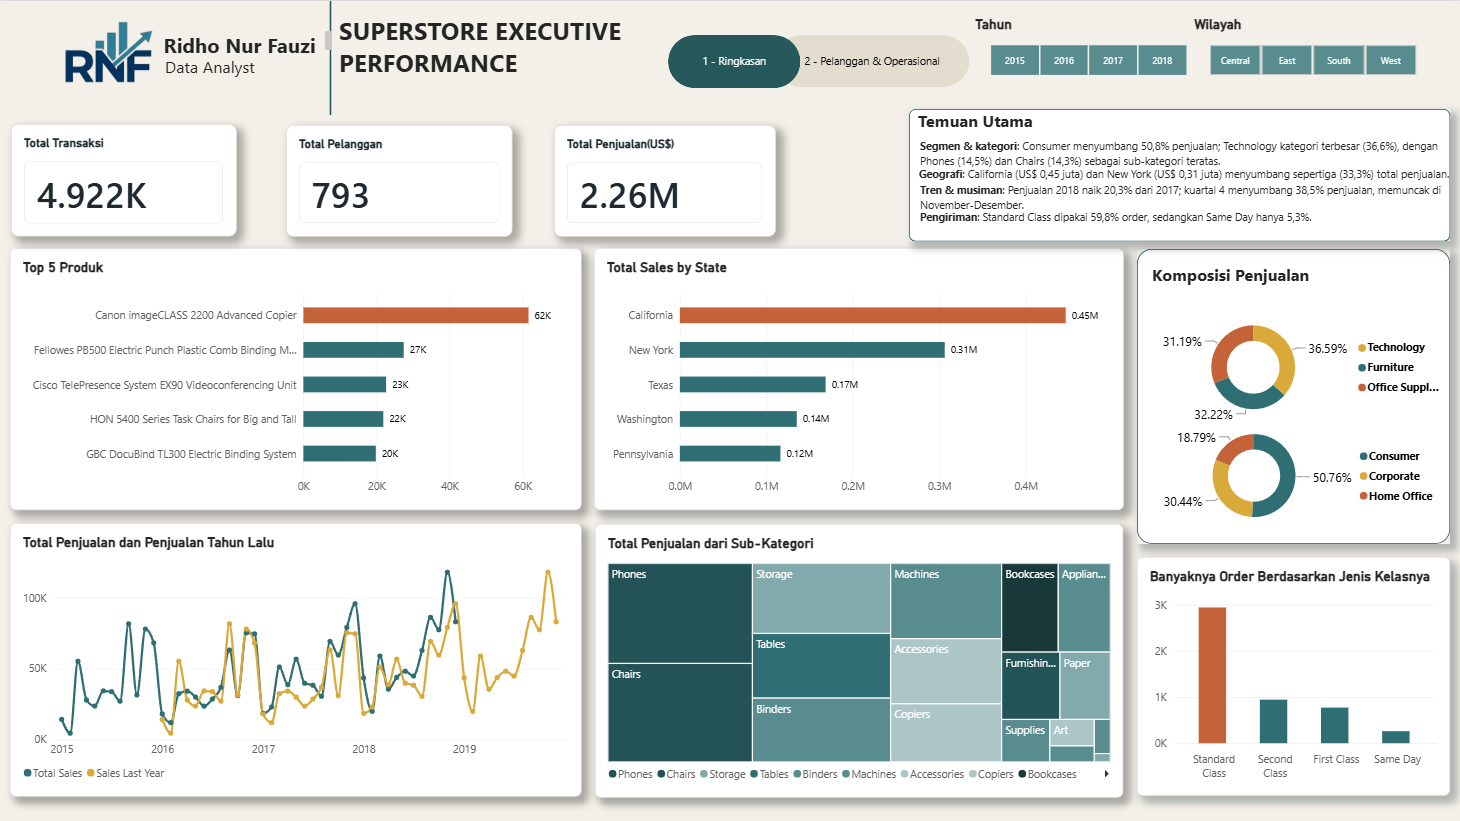

The page's visual inventory and layout, read from the dashboard file:
{"tool":"powerbi","page":{"name":"Page 1","canvas":[1920,1080],"ordinal":0},"visuals":[{"type":"lineChart","title":"Total Penjualan dan Penjualan Tahun Lalu","fields":{"Category":["Dim_Date.Date.Variation.Date Hierarchy.Year","Dim_Date.Date.Variation.Date Hierarchy.Month"],"Y":["Fact_Sales.Total Sales","Fact_Sales.Sales Last Year"]},"box":[13.3,686.7,751.7,360],"z":0},{"type":"shape","box":[1496,326,412,388],"z":1000},{"type":"clusteredBarChart","title":"Top 5 Produk","fields":{"Category":["Dim_Product.Product Name"],"Y":["Sum(Fact_Sales.Sales)"]},"box":[13.3,325,751.7,345],"z":2000},{"type":"cardVisual","title":"Total Penjualan(US$)","fields":{"Data":["Sum(Fact_Sales.Sales)"]},"box":[728.3,163.3,291.7,146.7],"z":3000},{"type":"pieChart","fields":{"Category":["Dim_Product.Category"],"Y":["Fact_Sales.Total Sales"]},"box":[1496.2,396.2,423.8,173.8],"z":4000},{"type":"clusteredBarChart","fields":{"Category":["Fact_Sales.State"],"Y":["Fact_Sales.Total Sales"]},"box":[781.7,325,696.7,345],"z":5000},{"type":"cardVisual","title":"Total Pelanggan","fields":{"Data":["Count(Dim_Customer.Customer ID)"]},"box":[376.7,163.3,298.3,146.7],"z":6000},{"type":"donutChart","title":"Penjualan Berdasarkan Segment","fields":{"Category":["Dim_Customer.Segment"],"Y":["Fact_Sales.Total Sales"]},"box":[1496,540,414,172],"z":7000},{"type":"cardVisual","title":"Total Transaksi","fields":{"Data":["Count(Fact_Sales.Order ID)"]},"box":[15.1,162.2,296.7,148.3],"z":8000},{"type":"treemap","title":"Total Penjualan dari Sub-Kategori","fields":{"Group":["Dim_Product.Sub-Category"],"Values":["Fact_Sales.Total Sales"]},"box":[782.5,687.5,695,360],"z":9000},{"type":"columnChart","title":"Banyaknya Order Berdasarkan Jenis  Kelasnya","fields":{"Category":["Fact_Sales.Ship Mode"],"Y":["Count(Fact_Sales.Order ID)"]},"box":[1496,732,412,314],"z":10000},{"type":"textbox","box":[446,16,395,125],"z":11000},{"type":"shape","box":[1196.7,142.2,712.2,174.4],"z":12000},{"type":"shape","box":[412,0,46,150],"z":13000},{"type":"textbox","box":[202.3,39.5,233.3,36.7],"z":14000},{"type":"textbox","box":[217.3,72.9,123.3,30],"z":15000},{"type":"textbox","box":[1516,346,220,36],"z":16000},{"type":"image","box":[84,8,118,120],"z":17000},{"type":"textbox","box":[1208,143,158.8,30],"z":18000},{"type":"textbox","box":[1210,181.7,695,38.3],"z":19000},{"type":"textbox","box":[1208.6,218.6,711.4,18.6],"z":20000},{"type":"textbox","box":[1210,238.9,695.6,42.2],"z":21000},{"type":"textbox","box":[1210,275.6,520,21.1],"z":22000},{"type":"actionButton","box":[1020,44.3,255.7,68.6],"z":23000},{"type":"slicer","title":"Wilayah","fields":{"Values":["Fact_Sales.Region"]},"box":[1555.7,5.7,342.9,110],"z":24000},{"type":"slicer","title":"Tahun","fields":{"Values":["Dim_Date.Date.Variation.Date Hierarchy.Year"]},"box":[1267.1,5.7,328.6,110],"z":25000},{"type":"actionButton","box":[878.6,44.3,174.3,70],"z":26000}]}

Visuals, with their boxes in screenshot pixels (x1, y1, x2, y2), scaled from the page's 1920x1080 canvas onto the 1460x821 screenshot:
"Total Penjualan dan Penjualan Tahun Lalu" lineChart: [10, 522, 582, 796]
shape: [1138, 248, 1451, 543]
"Top 5 Produk" clusteredBarChart: [10, 247, 582, 509]
"Total Penjualan(US$)" cardVisual: [554, 124, 776, 236]
pieChart - Dim_Product.Category x Fact_Sales.Total Sales: [1138, 301, 1459, 433]
clusteredBarChart - Fact_Sales.State x Fact_Sales.Total Sales: [594, 247, 1124, 509]
"Total Pelanggan" cardVisual: [286, 124, 513, 236]
"Penjualan Berdasarkan Segment" donutChart: [1138, 410, 1452, 541]
"Total Transaksi" cardVisual: [11, 123, 237, 236]
"Total Penjualan dari Sub-Kategori" treemap: [595, 523, 1124, 796]
"Banyaknya Order Berdasarkan Jenis  Kelasnya" columnChart: [1138, 556, 1451, 795]
textbox: [339, 12, 640, 107]
shape: [910, 108, 1452, 241]
shape: [313, 0, 348, 114]
textbox: [154, 30, 331, 58]
textbox: [165, 55, 259, 78]
textbox: [1153, 263, 1320, 290]
image: [64, 6, 154, 97]
textbox: [919, 109, 1039, 132]
textbox: [920, 138, 1449, 167]
textbox: [919, 166, 1459, 180]
textbox: [920, 182, 1449, 214]
textbox: [920, 210, 1316, 226]
actionButton: [776, 34, 970, 86]
"Wilayah" slicer: [1183, 4, 1444, 88]
"Tahun" slicer: [964, 4, 1213, 88]
actionButton: [668, 34, 801, 87]
